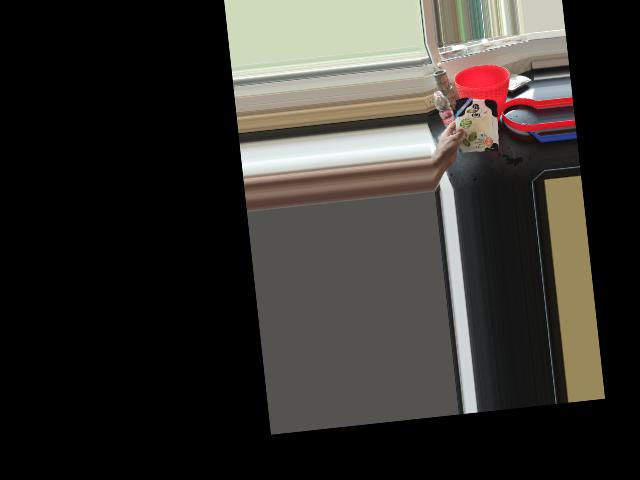cheese: (442, 93, 501, 151)
